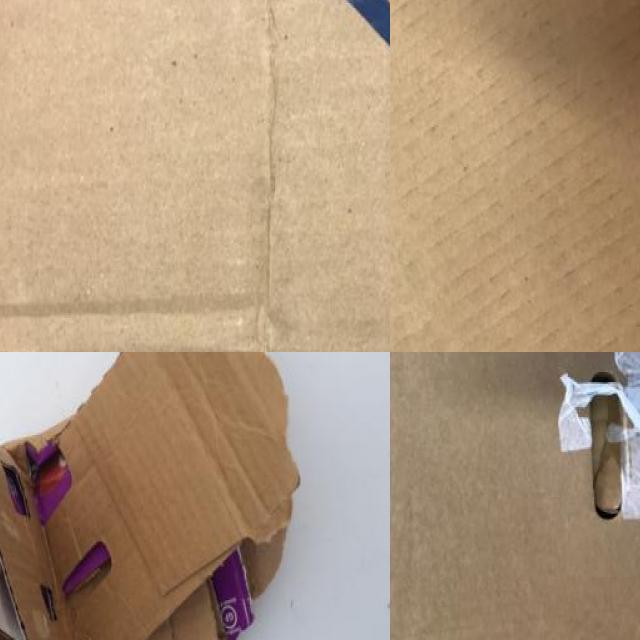class_name: (0, 0, 390, 352), (390, 0, 640, 352), (0, 352, 305, 640), (390, 352, 640, 640)
